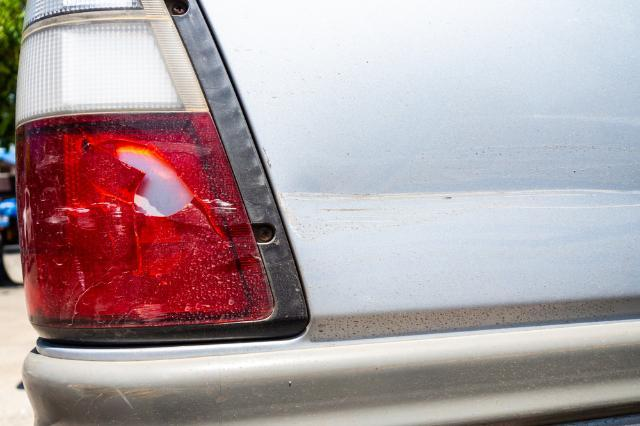lamp broken: (15, 0, 274, 329)
scratch: (275, 183, 640, 240)
